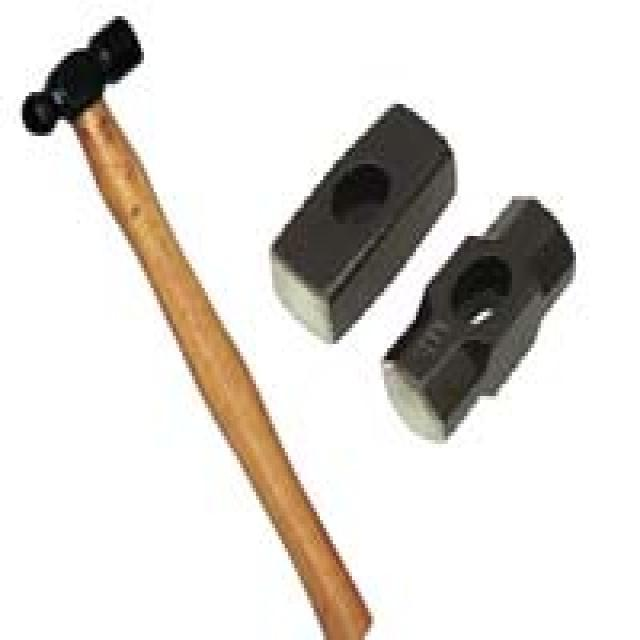hammer: (16, 6, 320, 596)
